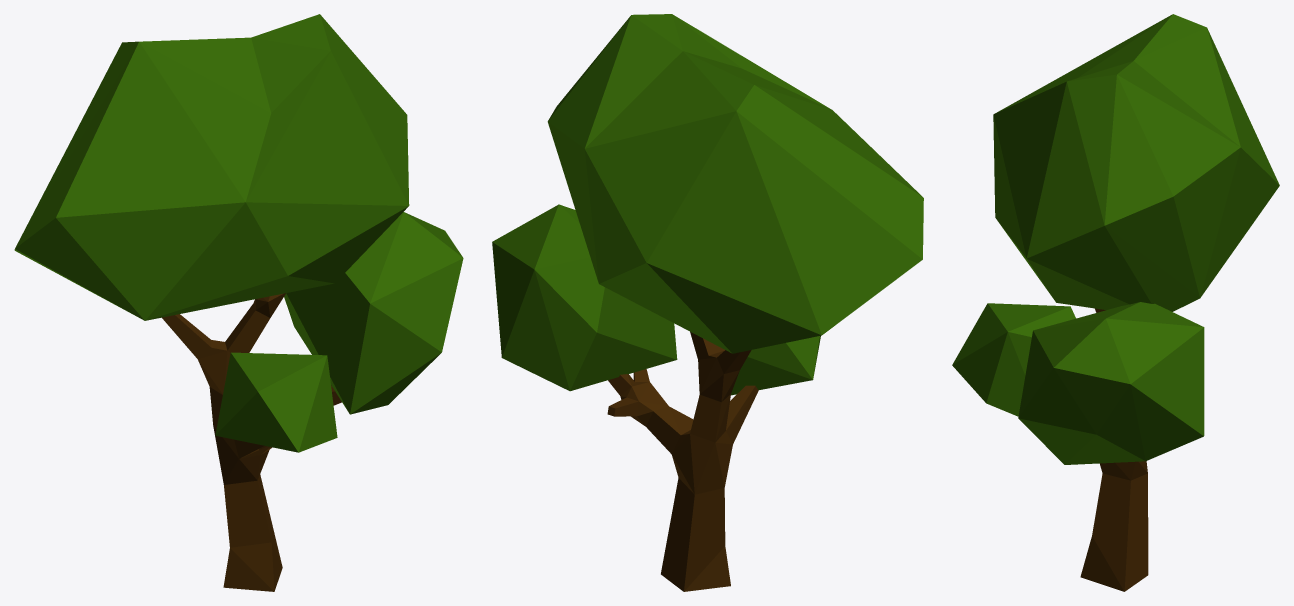
The model's file is temp-decid.tall.gltf.
The picture shows the model from 3 angles, left to right: view 1: azimuth 30°, elevation 25°; view 2: azimuth 150°, elevation 25°; view 3: azimuth 270°, elevation 25°; orthographic projection. The views are drawn at different scales.
Visible parts, largest first — view 1: canopy, trunk; view 2: canopy, trunk; view 3: canopy, trunk.
Part boxes in pixels (x1,y1,x2,y2): canopy: (14, 14, 463, 452); trunk: (162, 293, 341, 591); canopy: (492, 14, 923, 395); trunk: (607, 332, 758, 591); canopy: (952, 14, 1279, 464); trunk: (1080, 308, 1148, 591).
Size of the model in its own units: 1 by 1.22 by 0.6803.
